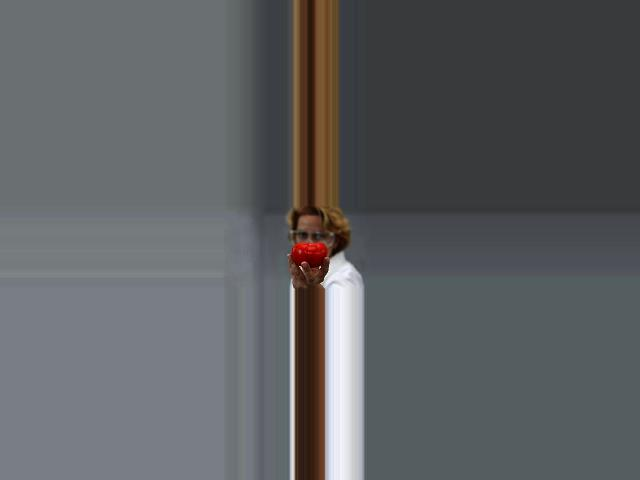tomato: (292, 243, 328, 267)
